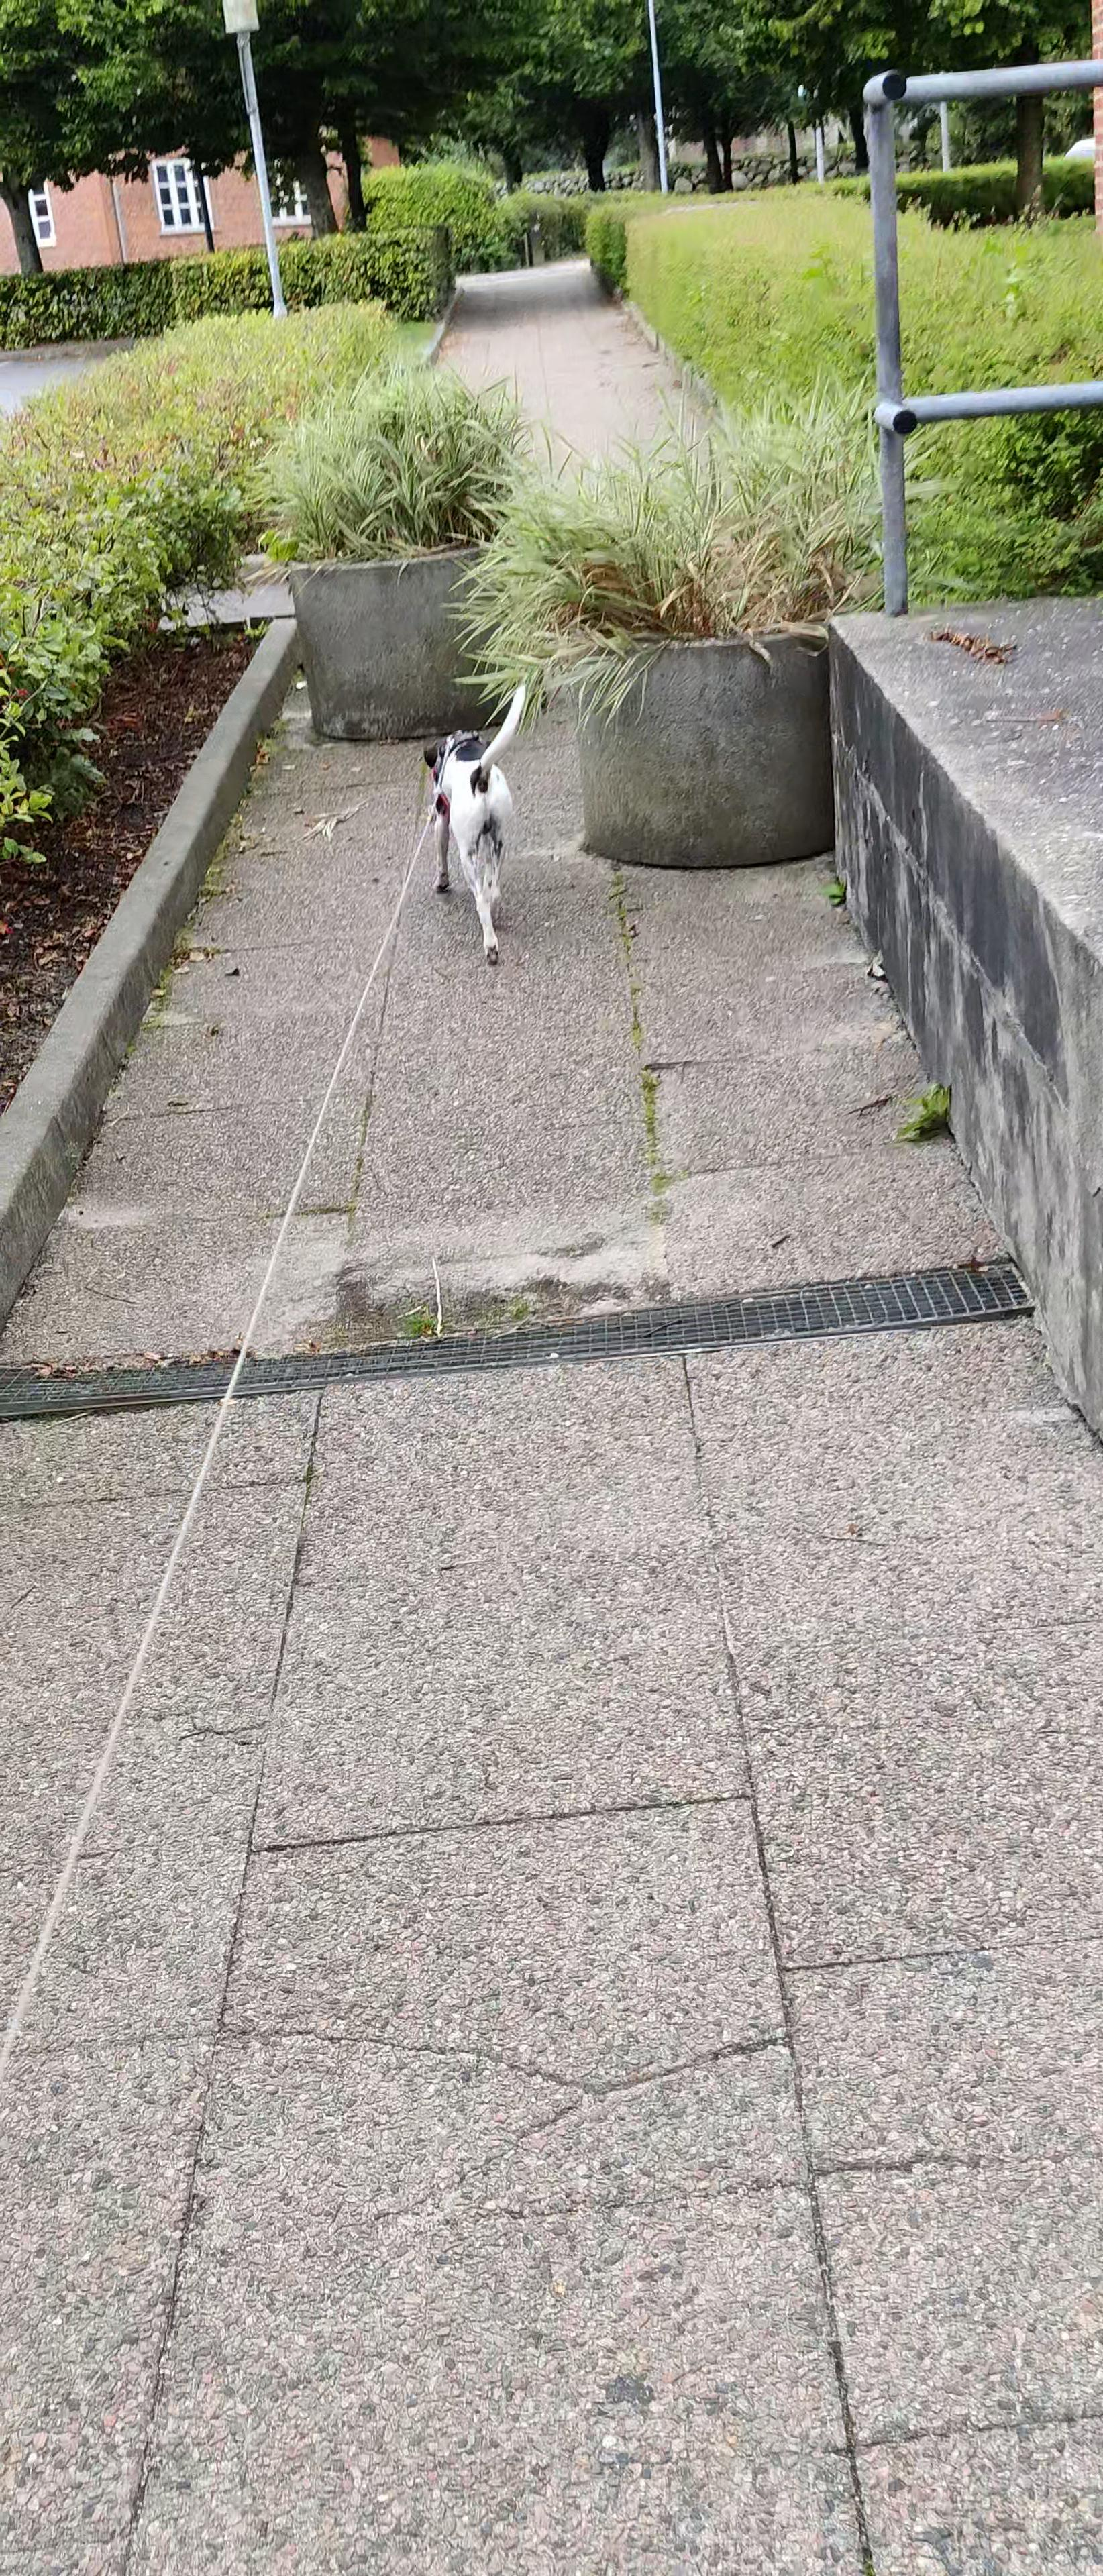Dog: (414, 670, 538, 966)
